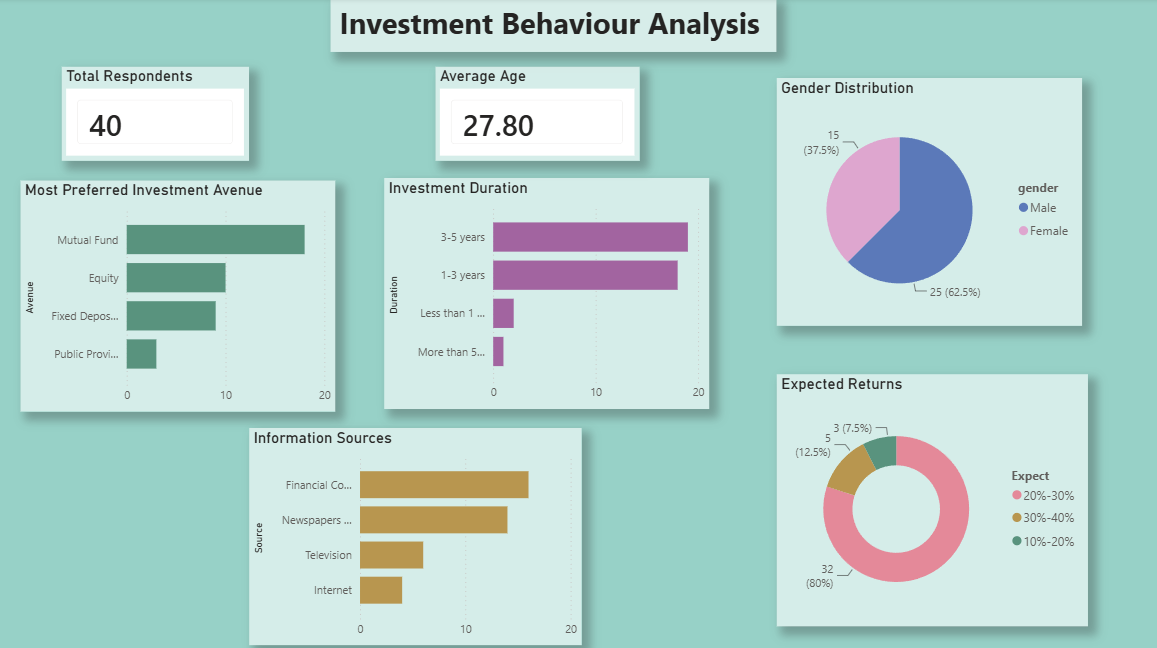

What the dashboard file says about the page in this screenshot:
{"tool":"powerbi","page":{"name":"Page 1","canvas":[1280,720],"ordinal":0},"visuals":[{"type":"textbox","box":[365,0,489.9,59],"z":0},{"type":"pieChart","title":"Gender Distribution","fields":{"Category":["Data_set 2 - Copy.gender"],"Y":["CountNonNull(Data_set 2 - Copy.gender)"]},"box":[854.9,87.8,334.8,271.7],"z":1000},{"type":"clusteredBarChart","title":"Most Preferred Investment Avenue","fields":{"Category":["Data_set 2 - Copy.Avenue"],"Y":["CountNonNull(Data_set 2 - Copy.Avenue)"]},"box":[24.7,200.3,345.8,253.9],"z":2000},{"type":"clusteredBarChart","title":"Investment Duration","fields":{"Category":["Data_set 2 - Copy.Duration"],"Y":["CountNonNull(Data_set 2 - Copy.Duration)"]},"box":[424,197.6,356.8,253.9],"z":3000},{"type":"donutChart","title":"Expected Returns","fields":{"Category":["Data_set 2 - Copy.Expect"],"Y":["CountNonNull(Data_set 2 - Copy.Expect)"]},"box":[854.9,413,341.7,277.2],"z":4000},{"type":"cardVisual","title":"Total Respondents","fields":{"Data":["CountNonNull(Data_set 2 - Copy.age)"]},"box":[70,75.5,205.8,102.9],"z":5000},{"type":"cardVisual","title":"Average Age","fields":{"Data":["Avg(Data_set 2 - Copy.age)"]},"box":[480.3,75.5,223.7,102.9],"z":6000},{"type":"clusteredBarChart","title":"Information Sources","fields":{"Category":["Data_set 2 - Copy.Source"],"Y":["CountNonNull(Data_set 2 - Copy.Source)"]},"box":[275.8,472,365,238.8],"z":6001}]}

Visuals, with their boxes in screenshot pixels (x1, y1, x2, y2), scaled from the page's 1280x720 canvas onto the 1157x648 screenshot:
textbox: bbox(330, 0, 773, 53)
"Gender Distribution" pieChart: bbox(773, 79, 1075, 324)
"Most Preferred Investment Avenue" clusteredBarChart: bbox(22, 180, 335, 409)
"Investment Duration" clusteredBarChart: bbox(383, 178, 706, 406)
"Expected Returns" donutChart: bbox(773, 372, 1082, 621)
"Total Respondents" cardVisual: bbox(63, 68, 249, 161)
"Average Age" cardVisual: bbox(434, 68, 636, 161)
"Information Sources" clusteredBarChart: bbox(249, 425, 579, 640)
